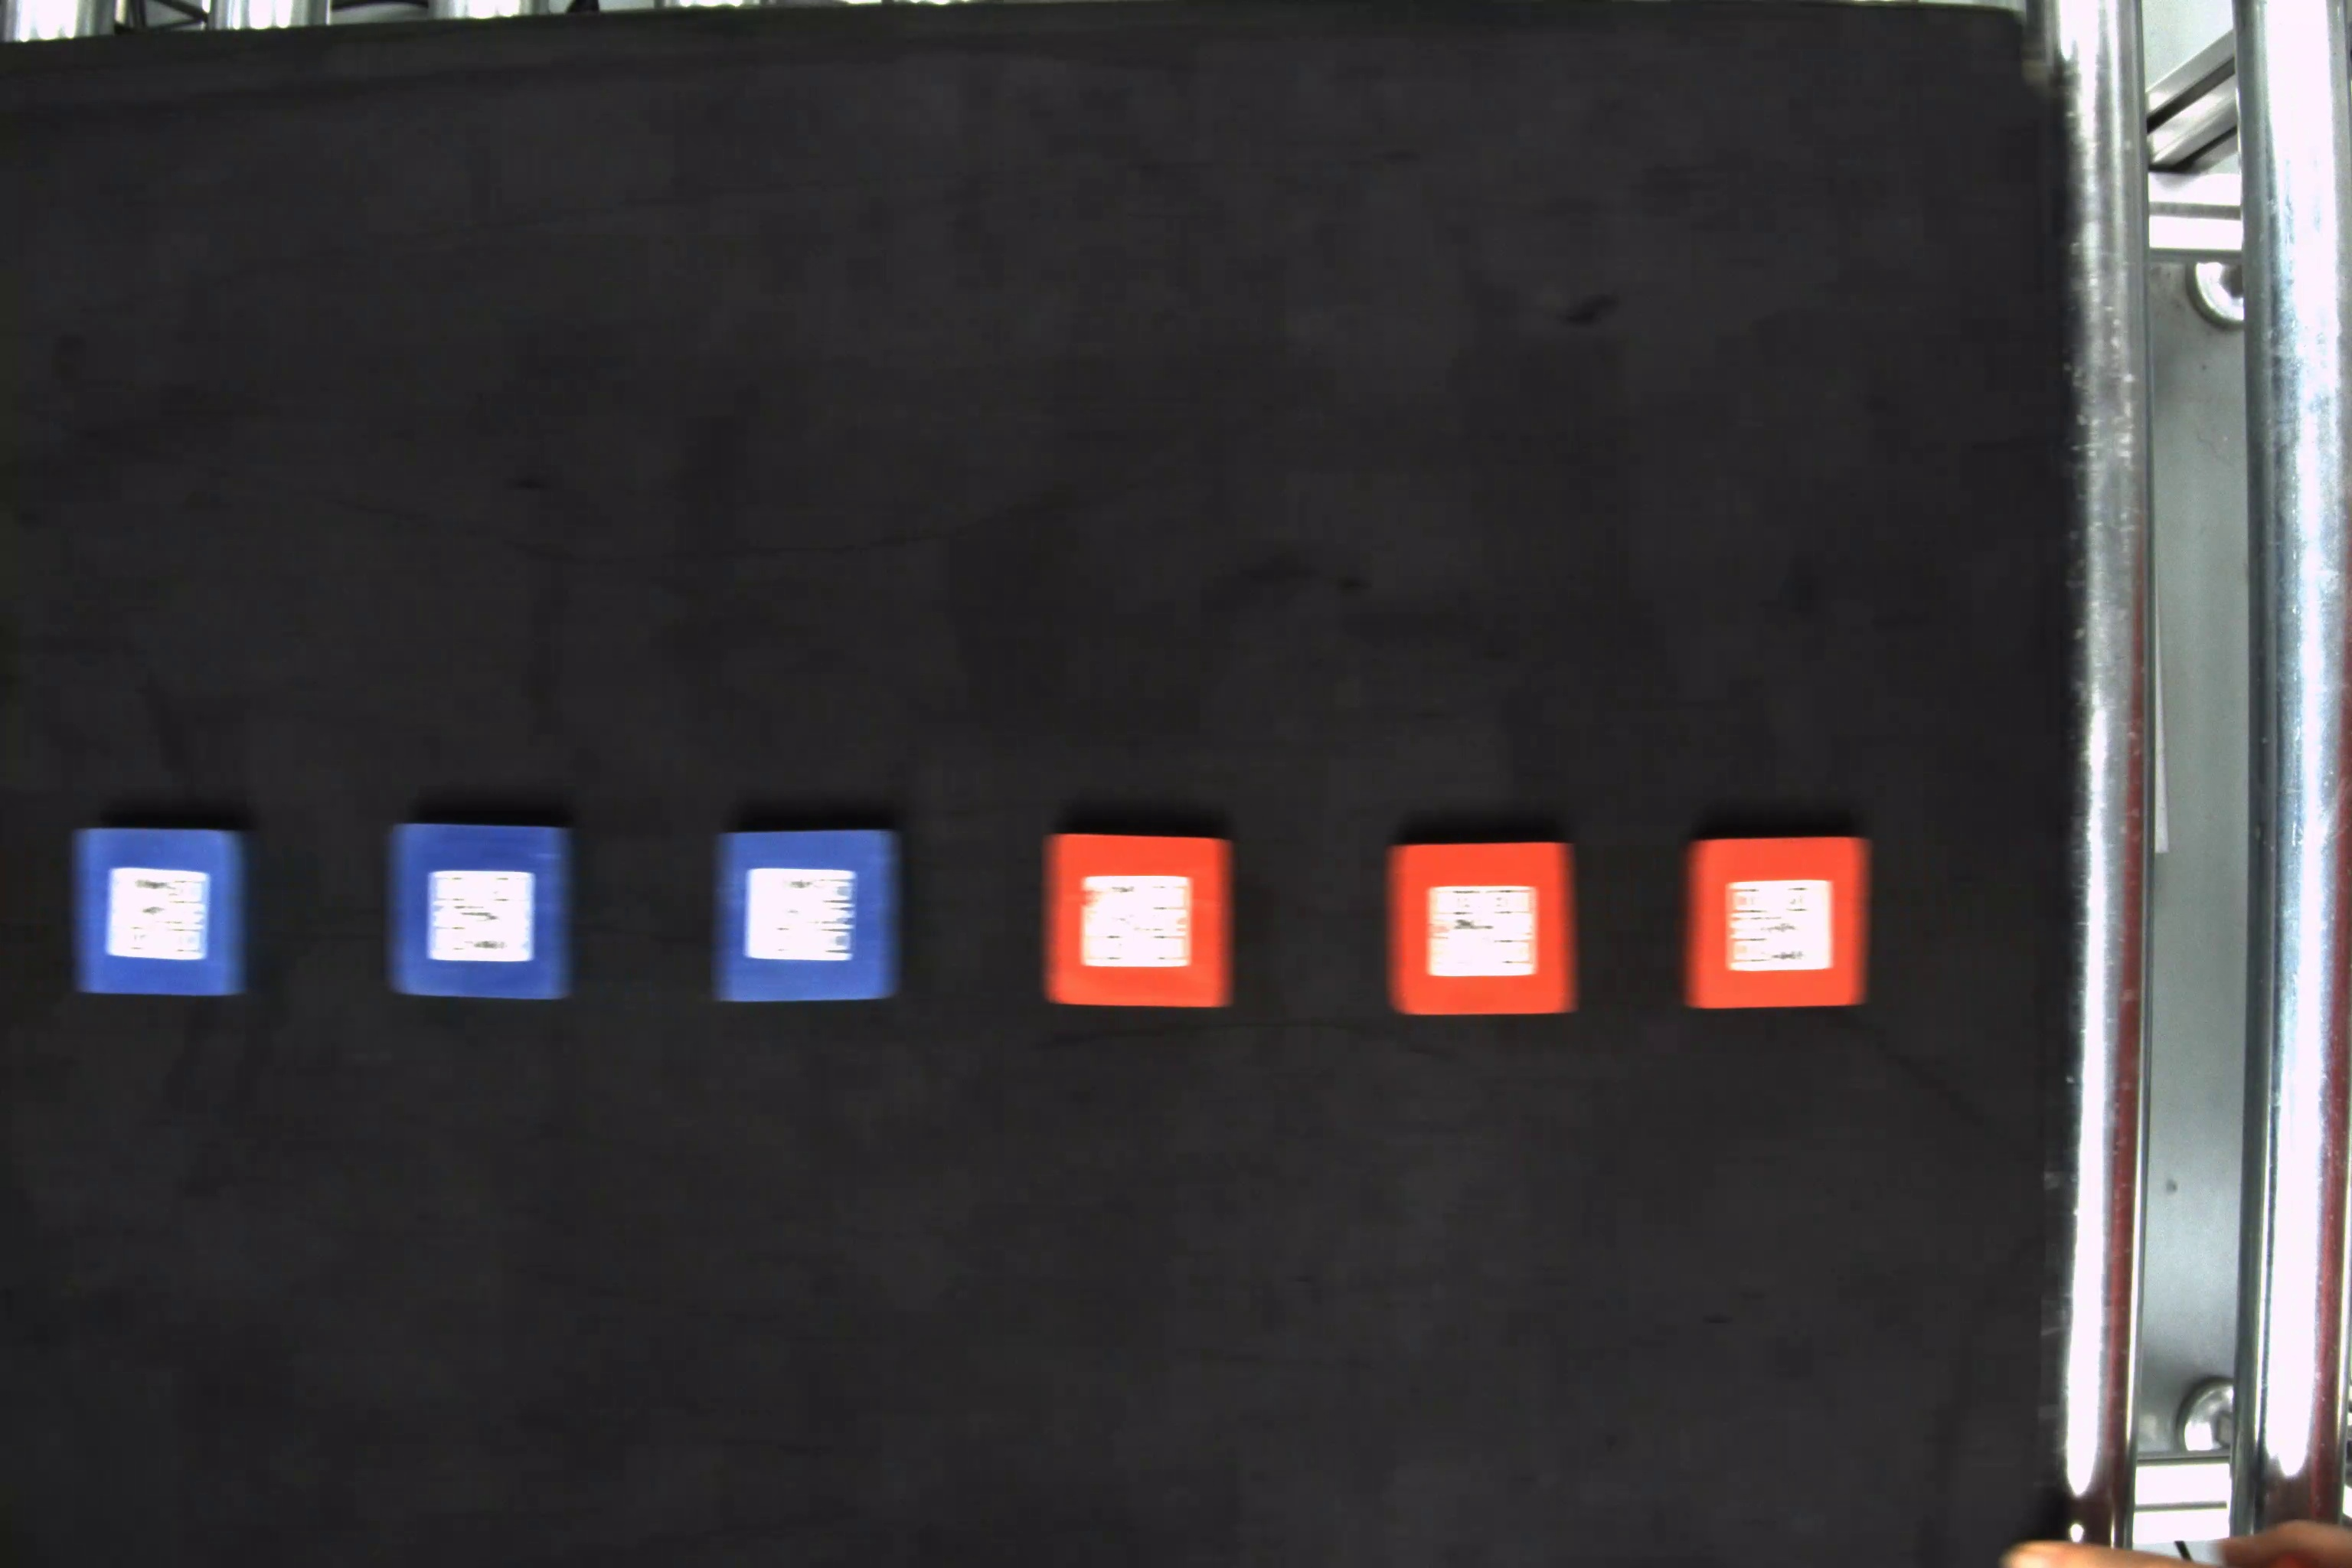wood: (385, 819, 579, 1008), (1038, 833, 1242, 1011), (1379, 843, 1584, 1017), (1680, 836, 1876, 1011), (68, 826, 255, 1001), (716, 829, 905, 1001)
